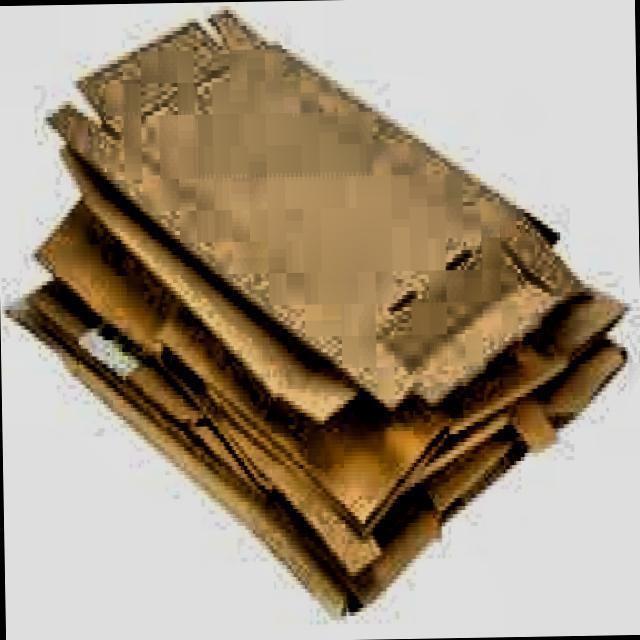cardboard: (0, 0, 634, 621)
